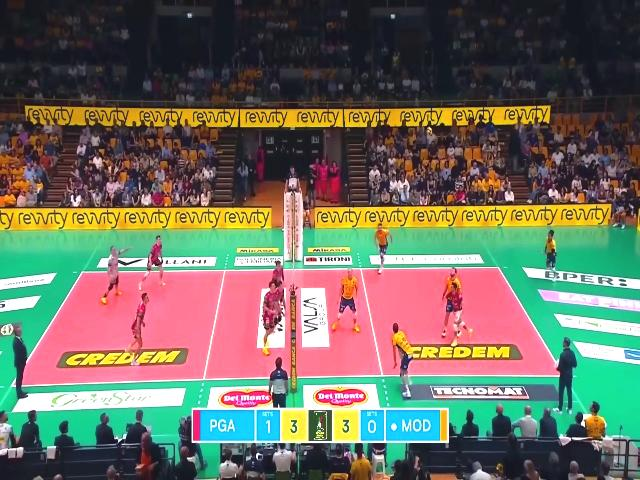volleyball court: (16, 265, 561, 383)
